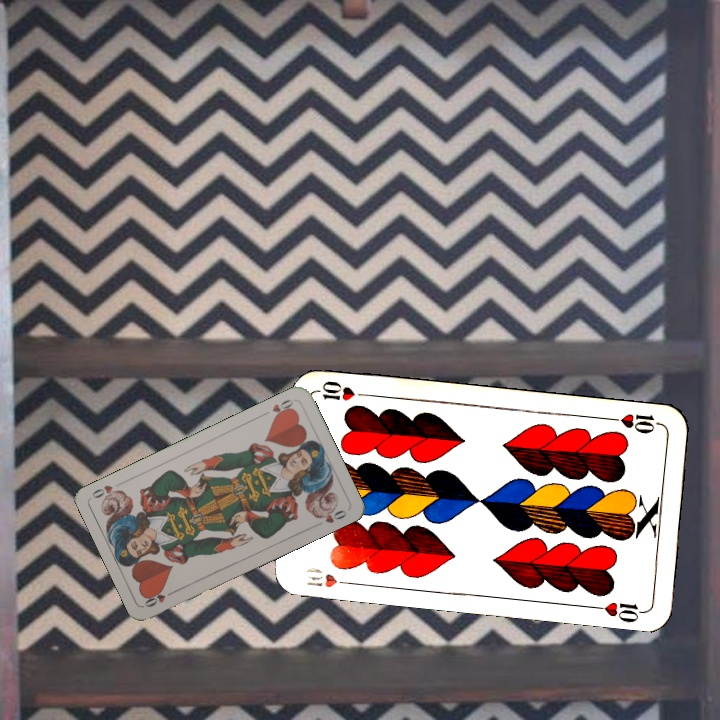H10: (605, 409, 664, 436), (302, 562, 356, 590)
HO: (140, 586, 179, 610), (268, 395, 296, 421)
